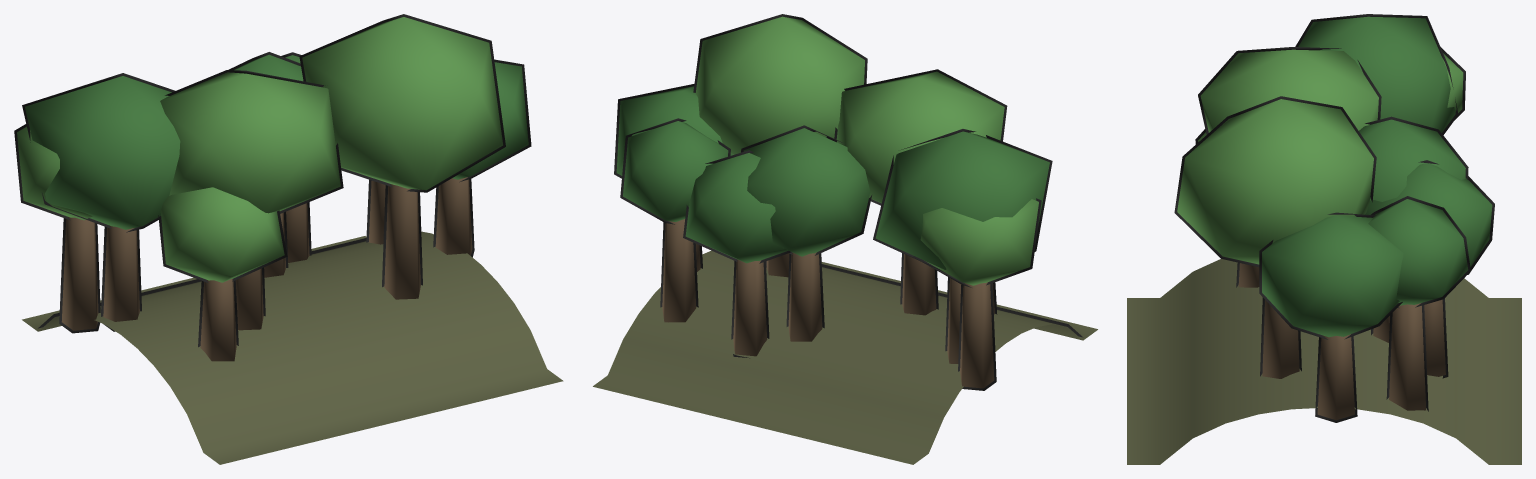
Rendered from td_foreststraightB.fbx.
The picture shows the model from 3 angles, left to right: view 1: azimuth 30°, elevation 25°; view 2: azimuth 150°, elevation 25°; view 3: azimuth 270°, elevation 25°; orthographic projection. The views are drawn at different scales.
Parts seen in each view (by area): view 1: Forest_StraightB; view 2: Forest_StraightB; view 3: Forest_StraightB.
Boxes of the visible parts, <box> form: Forest_StraightB: <box>14,14,563,464</box>; Forest_StraightB: <box>593,14,1097,464</box>; Forest_StraightB: <box>1127,14,1521,464</box>.
Size of the model in its own units: 275 by 184 by 200.
